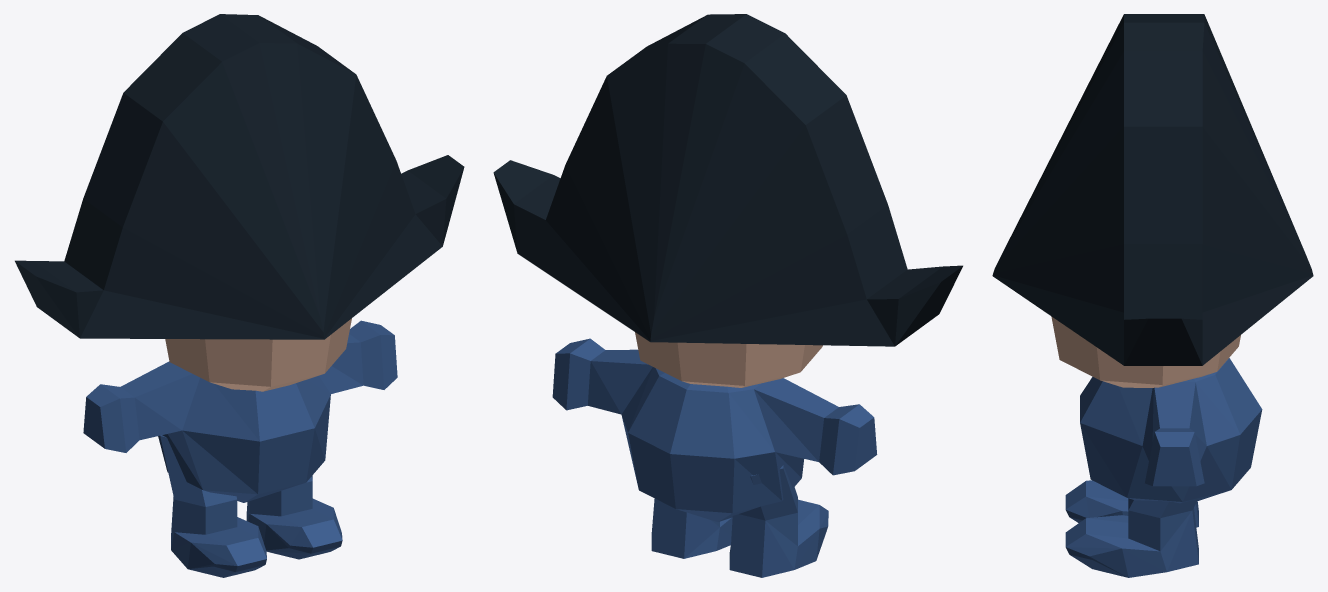
File: Character1.FBX
3 renders of one model, left to right at view 1: azimuth 30°, elevation 25°; view 2: azimuth 150°, elevation 25°; view 3: azimuth 270°, elevation 25°, orthographic. The views are drawn at different scales.
Parts seen in each view (by area): view 1: Line001, Sphere001, Sphere002; view 2: Line001, Sphere001, Sphere002; view 3: Line001, Sphere001, Sphere002.
Boxes of the visible parts, box(x1,y1,x2,y2) form: Line001: box(15, 14, 464, 339); Sphere001: box(83, 320, 397, 577); Sphere002: box(165, 318, 351, 391); Line001: box(493, 14, 962, 346); Sphere001: box(552, 338, 877, 577); Sphere002: box(635, 332, 822, 387); Line001: box(992, 14, 1313, 365); Sphere001: box(1065, 358, 1262, 577); Sphere002: box(1051, 316, 1240, 387).
Size of the model in its own units: 91.36 by 103 by 57.73.
